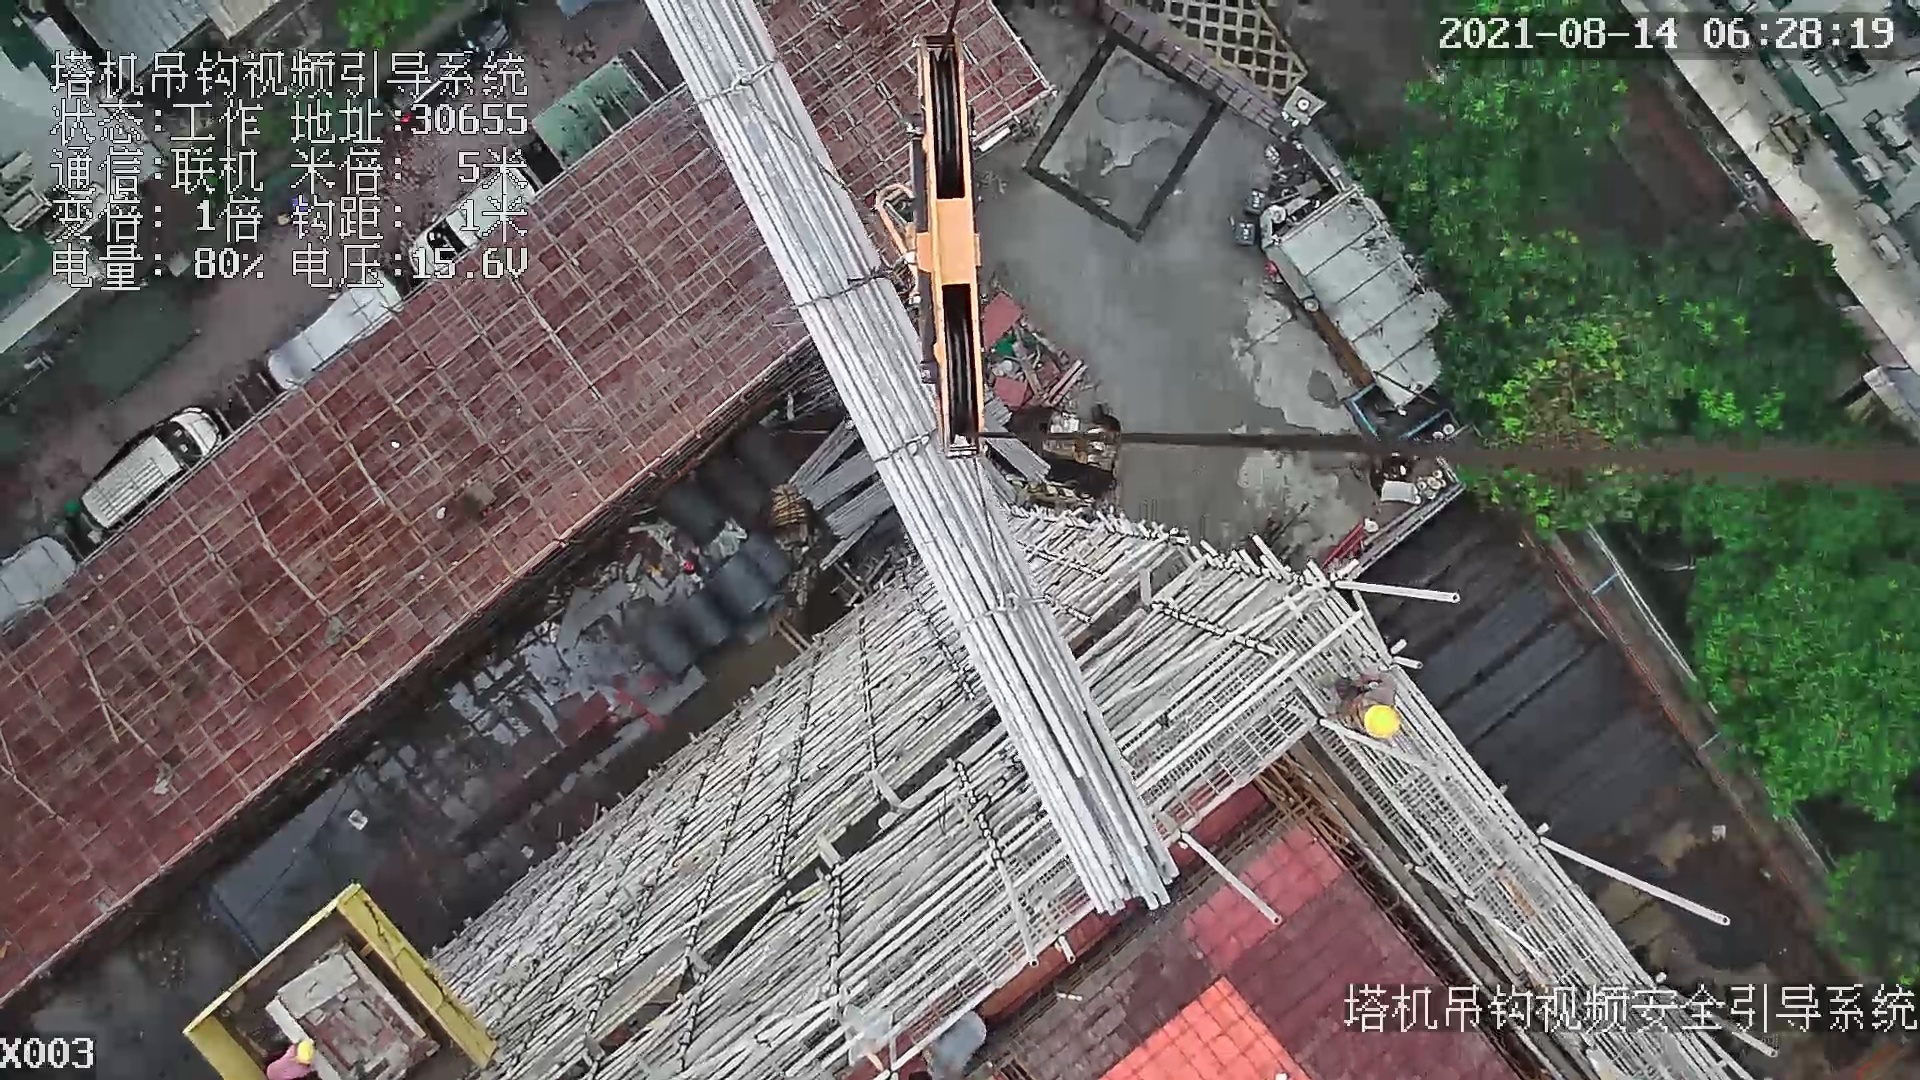helmet: (1359, 698, 1401, 745)
hook: (912, 34, 988, 463)
person: (1324, 671, 1405, 744), (256, 1032, 324, 1080)
